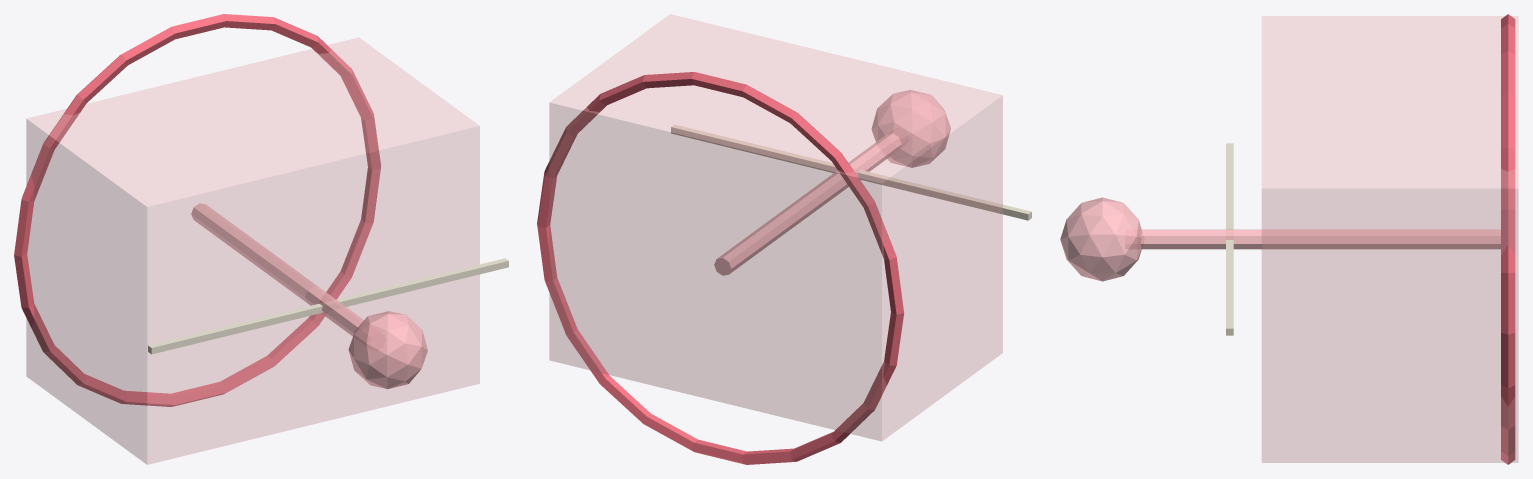
Rendered from 05_dynamic_camera_trigger.glb.
3 renders of one model, left to right at view 1: azimuth 30°, elevation 25°; view 2: azimuth 150°, elevation 25°; view 3: azimuth 270°, elevation 25°, orthographic. The views are drawn at different scales.
Parts seen in each view (by area): view 1: camera_trigger_volume, combat_start_ring, focus_target, focus_target_pole, camera_axis; view 2: camera_trigger_volume, combat_start_ring, focus_target, focus_target_pole, camera_axis; view 3: camera_trigger_volume, focus_target_pole, combat_start_ring, focus_target, camera_axis.
Boxes of the visible parts, x1,y1,x2,y2 form: camera_trigger_volume: (26,37,479,464); combat_start_ring: (14,14,380,406); focus_target: (348,311,427,389); focus_target_pole: (191,203,364,336); camera_axis: (148,258,508,354); camera_trigger_volume: (549,14,1002,441); combat_start_ring: (537,72,904,464); focus_target: (871,90,950,167); focus_target_pole: (714,133,901,275); camera_axis: (671,124,1031,220); camera_trigger_volume: (1262,16,1518,462); focus_target_pole: (1141,229,1500,249); combat_start_ring: (1501,14,1515,464); focus_target: (1060,197,1141,281); camera_axis: (1226,143,1233,335).
Size of the model in its own units: 1.49 by 1.47 by 1.51.
